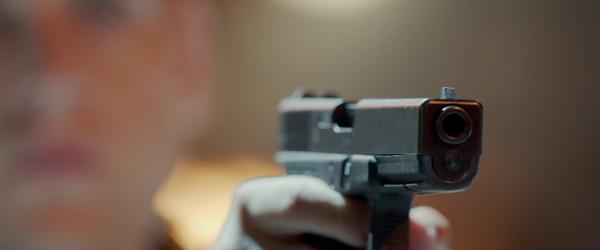Gun: (279, 87, 484, 249)
